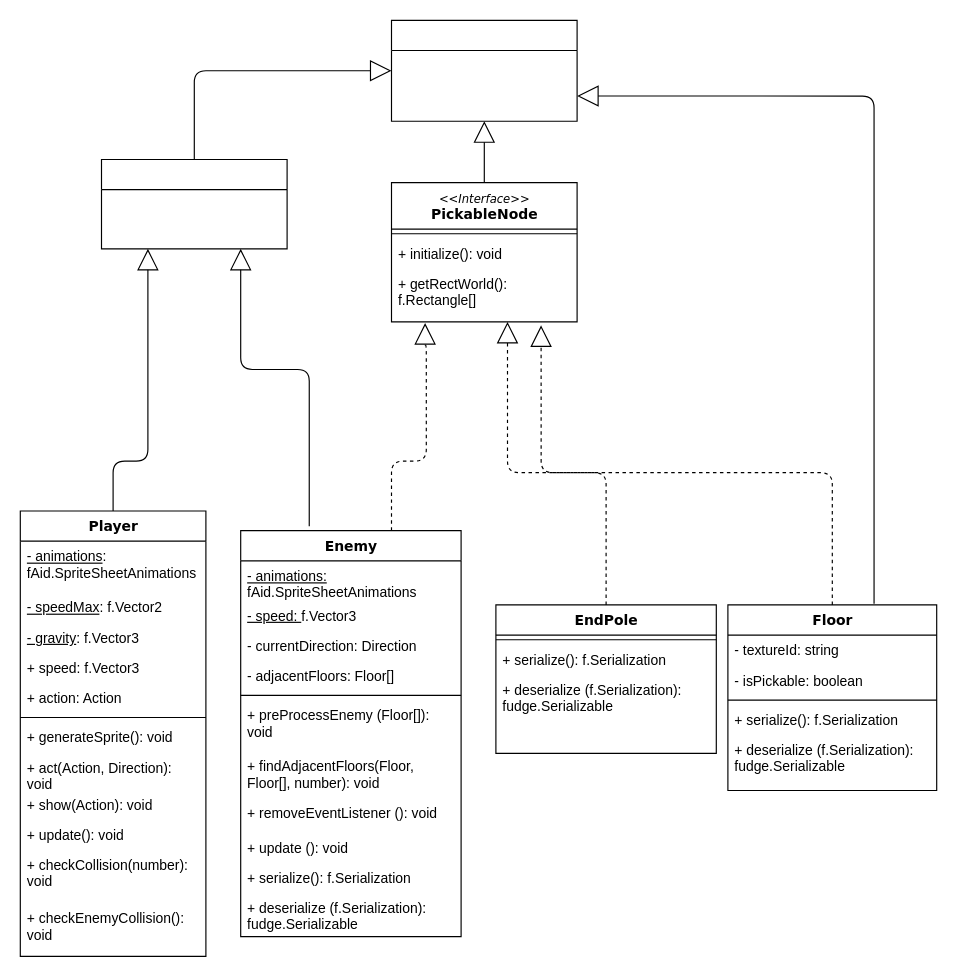
The diagram is 957 pixels wide and 980 high, and some of its shapes have lost their labels. Here are the shapes that lost their labels. From the top down, the centre of each, then its label:
At [483,70]: "f.Node".
At [193,203]: "fAid.NodeSprite".
